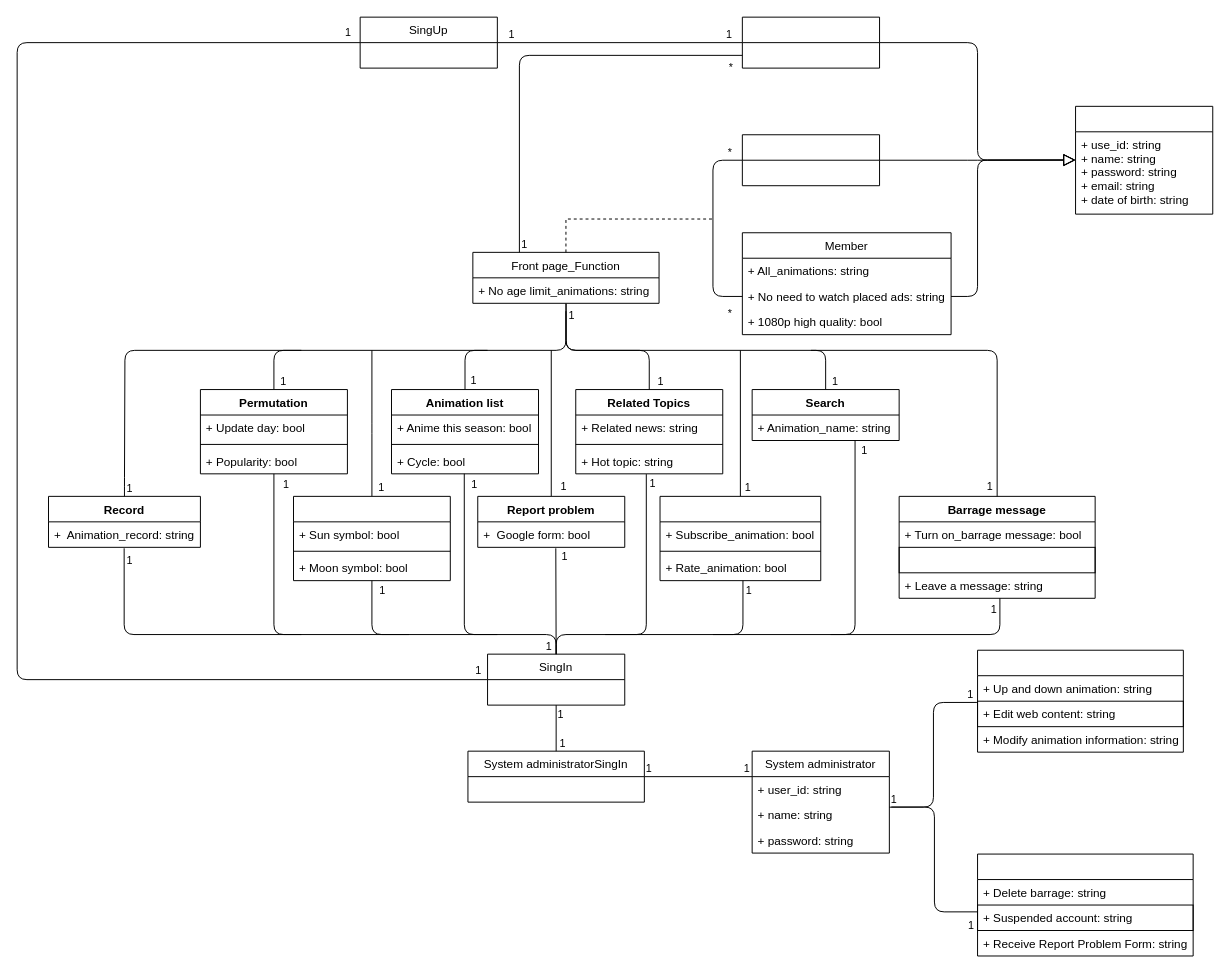
Some shapes in this 1230 by 976 pixel diagram are drawn without their labels. The shapes that lost their labels are listed below. From the top down, each one's box as (x1, y1, x2, y2) in pixels, then its label:
(741, 16, 880, 68): Browser
(741, 134, 880, 186): Warrior
(1075, 105, 1213, 214): information
(293, 495, 450, 581): Custom mode
(659, 495, 821, 581): Subscribe and Rate
(898, 546, 1095, 573): + Turn off_barrage message: bool
(977, 649, 1183, 752): Web editing
(977, 853, 1193, 956): System
